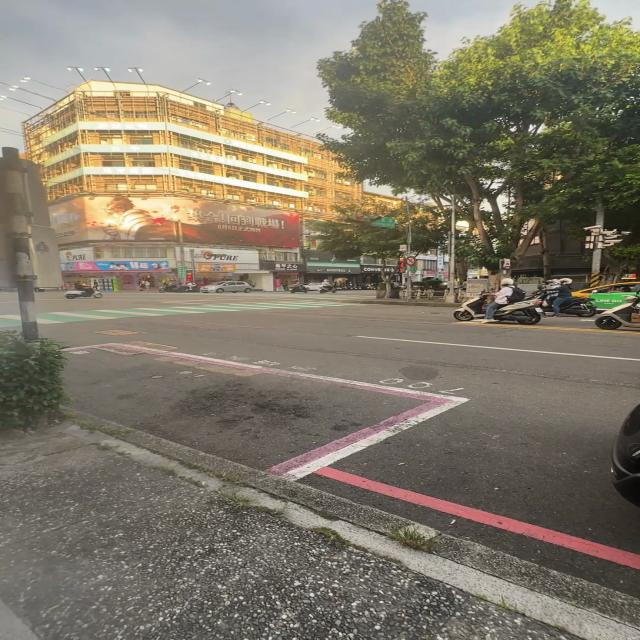car: (571, 281, 640, 311), (201, 281, 251, 292)
crosswalk: (36, 301, 384, 326), (217, 293, 376, 301)
motocycle: (596, 296, 640, 330), (494, 300, 543, 325), (452, 296, 485, 321), (560, 296, 596, 318), (529, 290, 551, 314), (64, 289, 101, 299)
